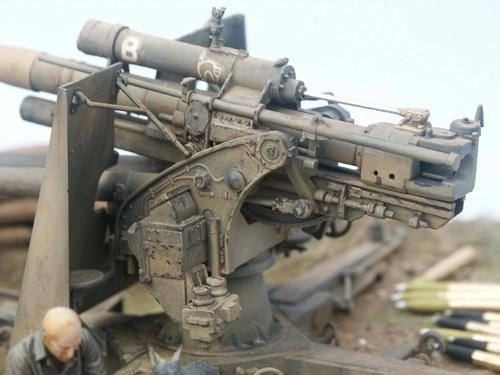MIL_SPG: (0, 10, 483, 359)
